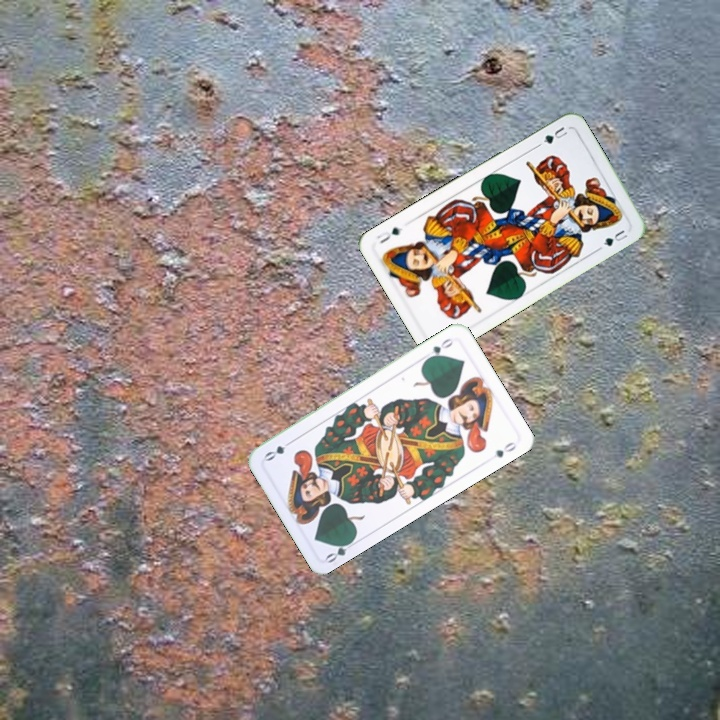GO: (322, 535, 360, 566), (422, 334, 457, 363)
GU: (534, 122, 570, 149)
